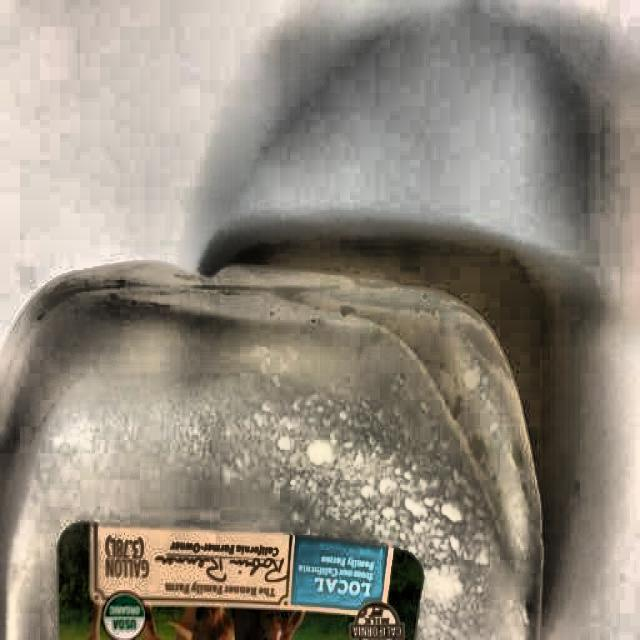plastic: (0, 264, 548, 639)
